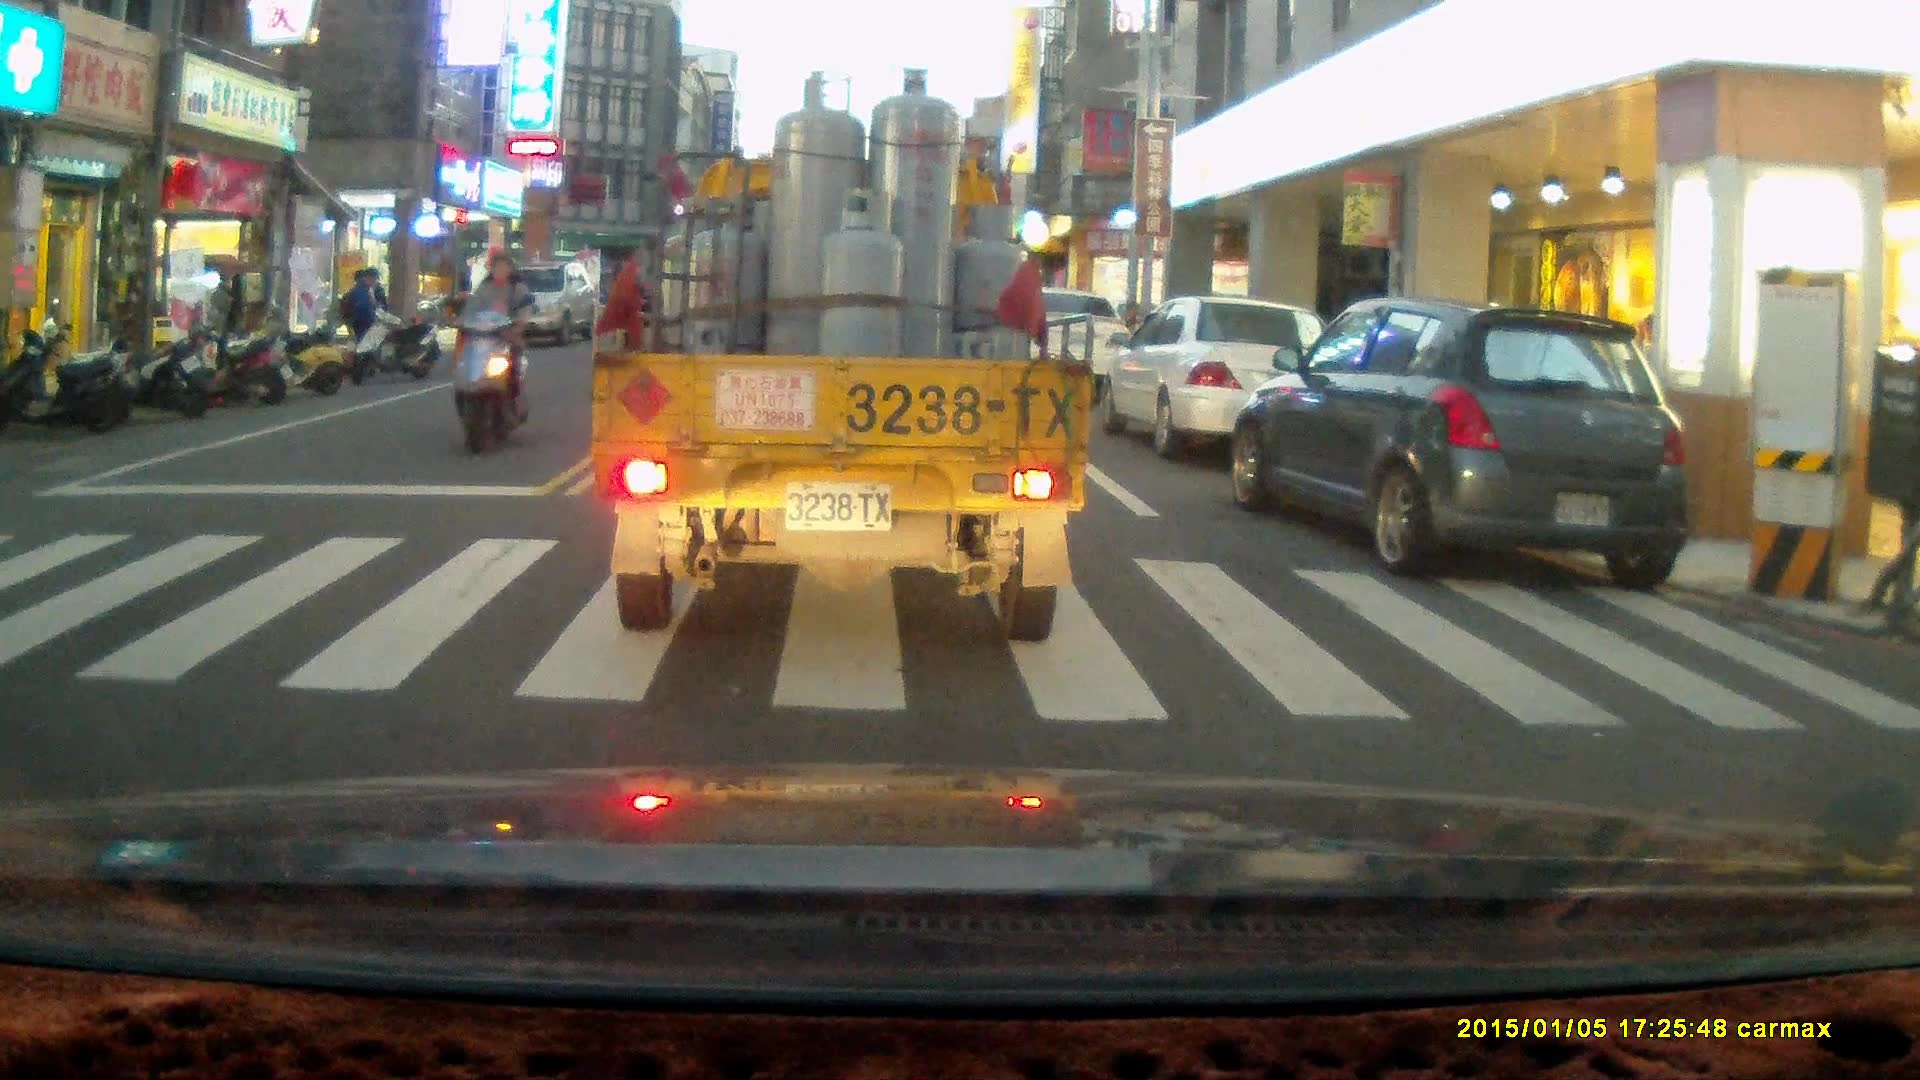pedestrian: (340, 269, 378, 379), (205, 269, 237, 371)
rider: (443, 251, 539, 456)
vehicle: (590, 66, 1100, 642), (1228, 293, 1695, 586), (1103, 295, 1365, 465), (988, 295, 1148, 426), (478, 265, 598, 355)
